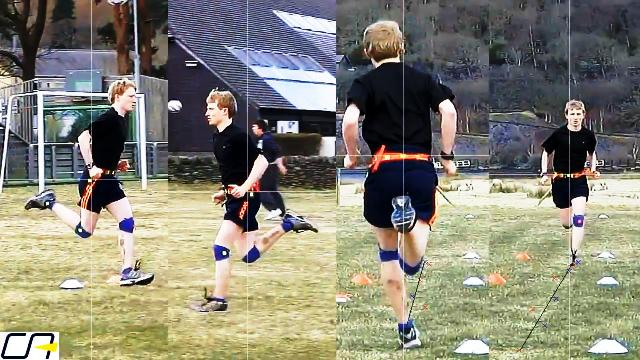berlari: (342, 16, 460, 358), (185, 82, 323, 328), (21, 70, 158, 298), (540, 93, 610, 276)
